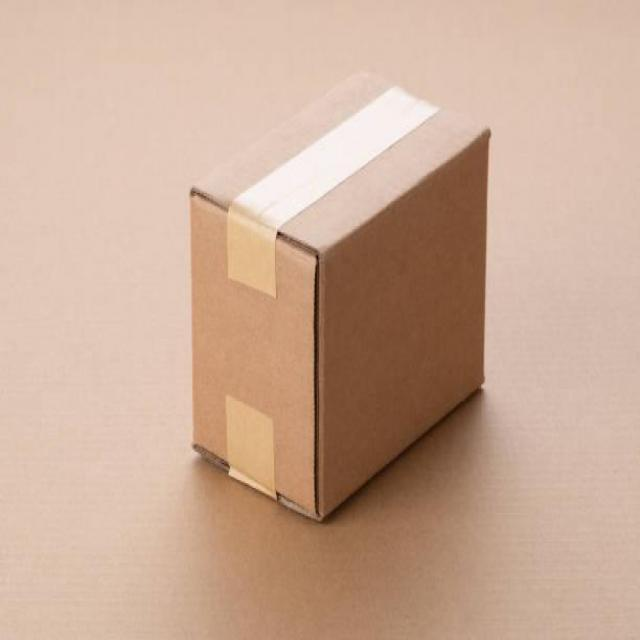box: (179, 65, 496, 522)
